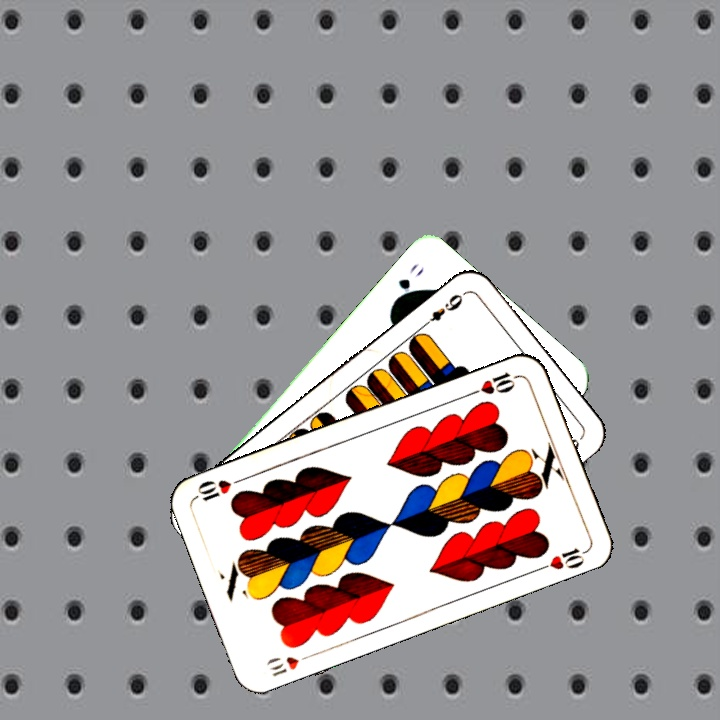E9: (417, 289, 467, 331)
GO: (389, 259, 427, 308)
H10: (465, 368, 522, 399), (262, 649, 317, 679)
